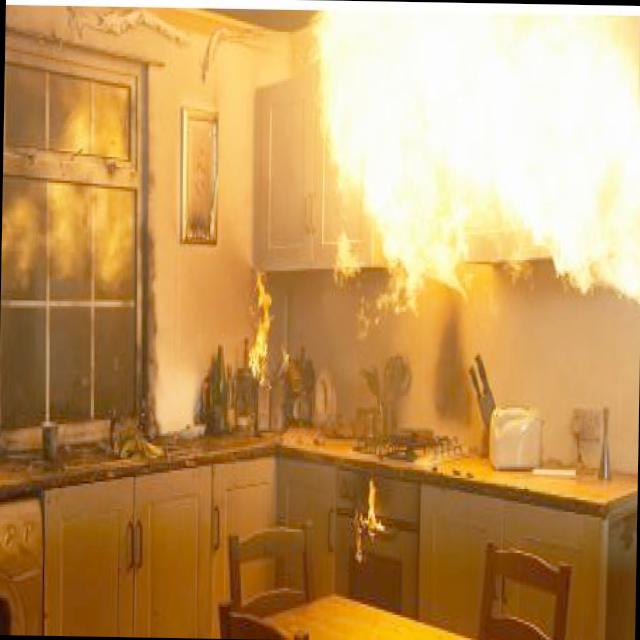Fire_Dangerous: (301, 6, 640, 319), (242, 290, 294, 410)
